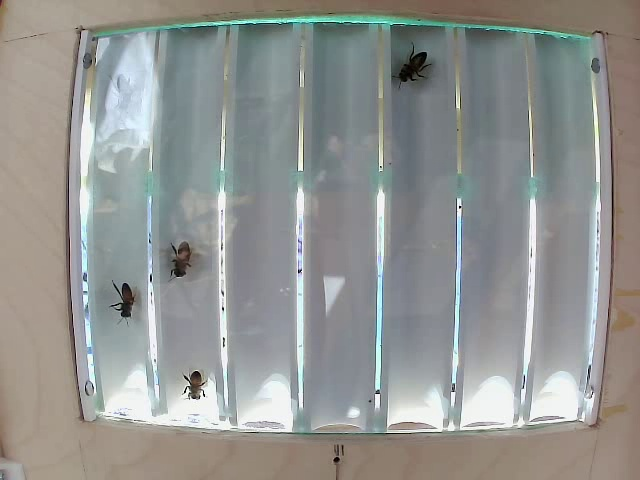bee: (165, 231, 200, 299), (105, 270, 144, 319), (403, 38, 427, 93), (187, 355, 210, 396)
